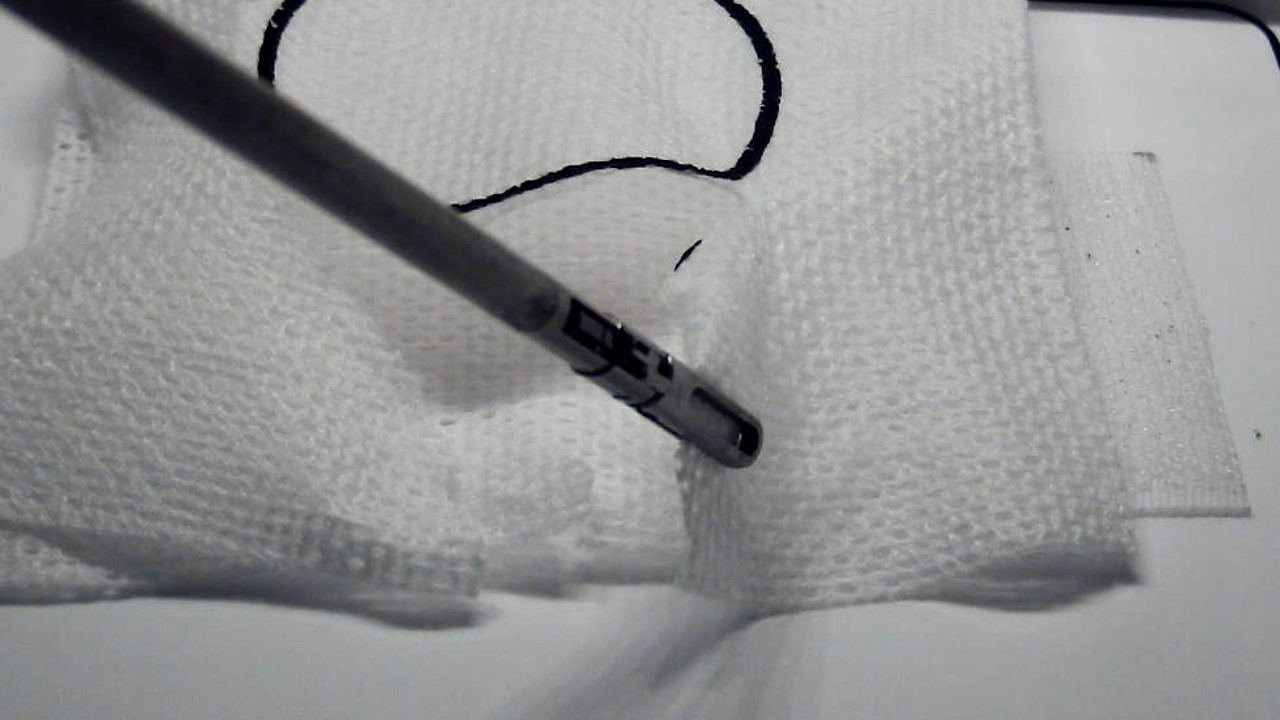Circle: (256, 1, 779, 215)
Grasper: (647, 353, 762, 473)
